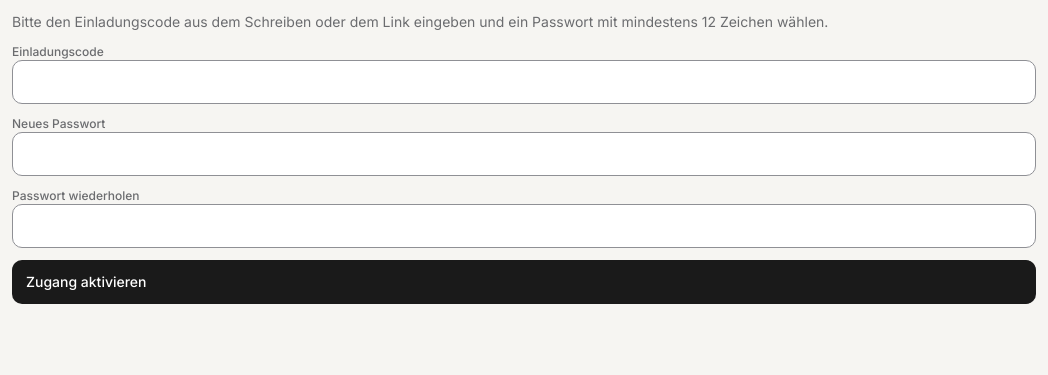
Test: InvitationForm › validates kurz before any request
Type "kurz" into the field labelled "Einladungscode". click: x=524, y=82
box: [12,60,1036,104]
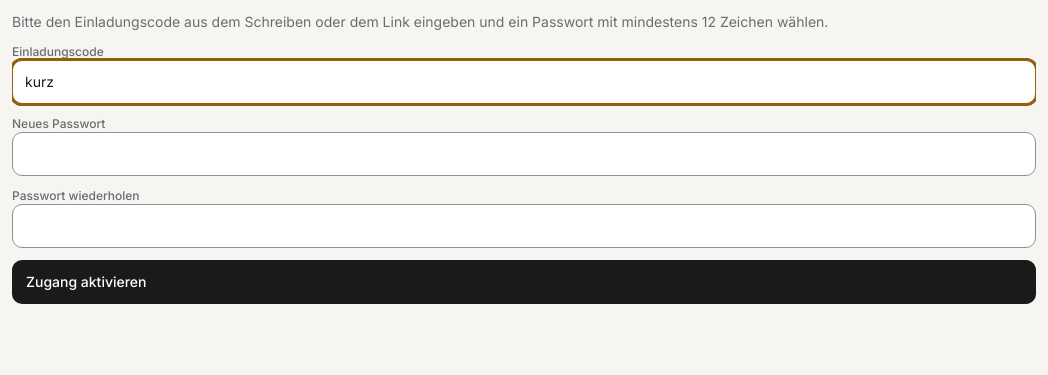
Type "ein-langes-passwort" into the password field labelled "Neues Passwort". click: x=524, y=154
box: [12,132,1036,176]
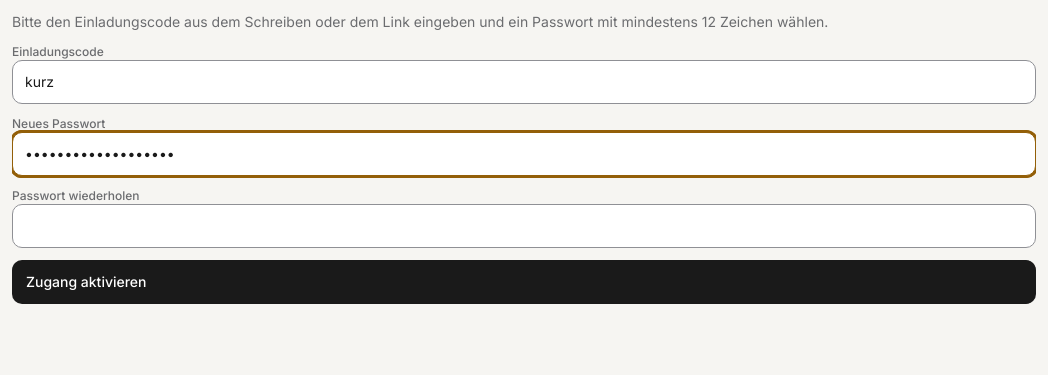
Type "ein-langes-passwort" into the password field labelled "Passwort wiederholen". click: x=524, y=226
box: [12,204,1036,248]
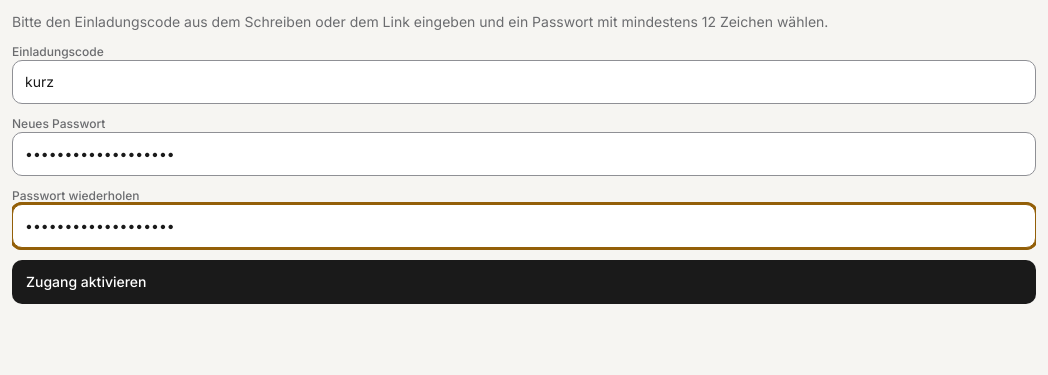
Click the button "Zugang aktivieren". click: x=86, y=282
box: [12,260,1036,304]
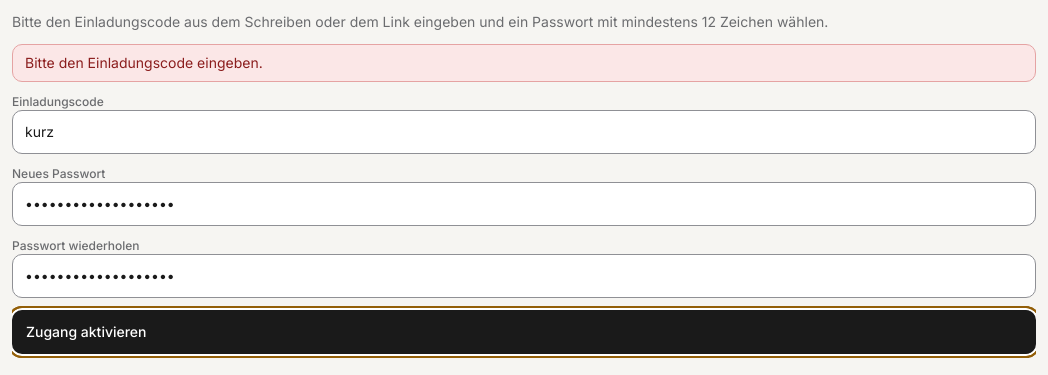
Check: the message shows "Einladungscode", box [25,54,263,71]
